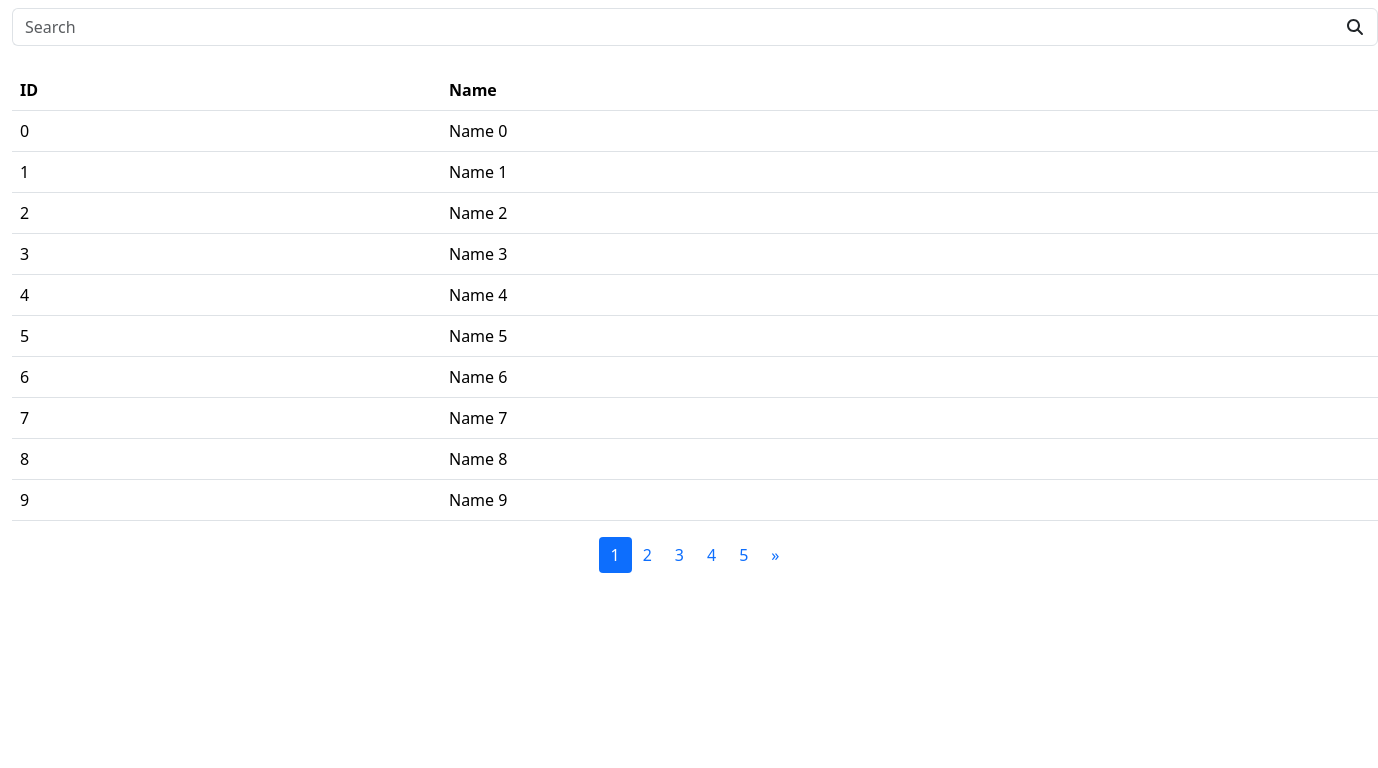
Test: correctly paginates a long list
Check: the table is shown, box [12,70,1377,521]
Check: the row "0 Name 0" is shown, box [12,110,1377,152]
Click the button with test id "pagination-last" at (775, 555), box [759,537,792,573]
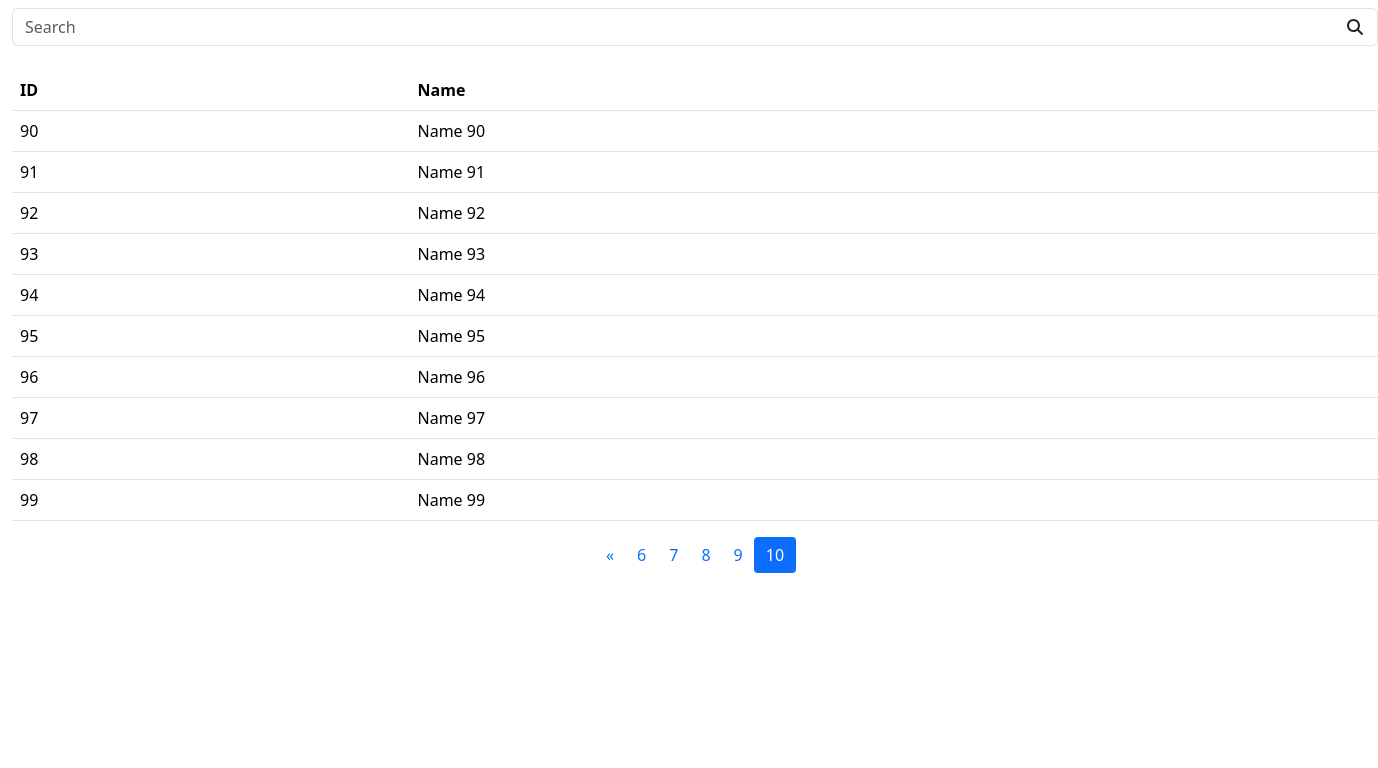
Check: the button with test id "pagination-item-4" is gone
Check: the button with test id "pagination-item-5" is shown, box [625,537,658,573]
Check: the element with test id "pagination-item-9" is shown, box [754,537,796,573]
